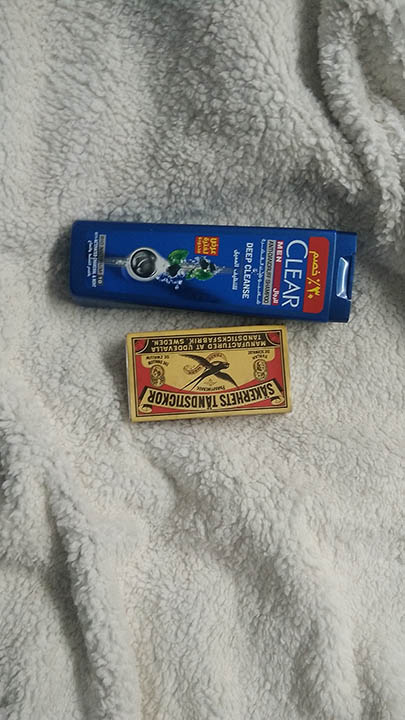Shampoo-Clear 4.7$: (54, 224, 369, 328)
match-sticks .90$: (108, 329, 306, 427)
